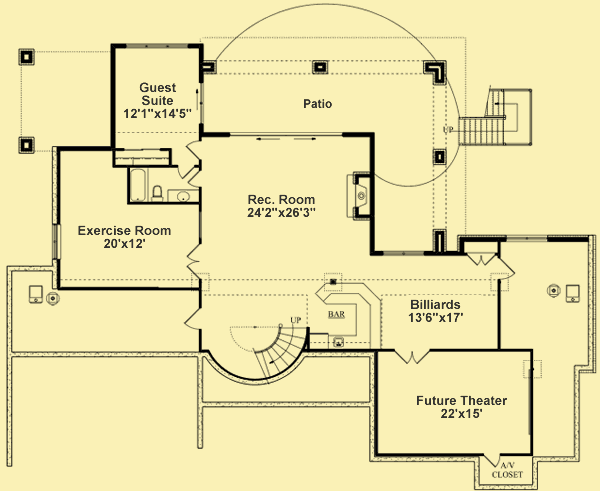door: (183, 242, 203, 284), (393, 345, 429, 366), (465, 249, 496, 271), (183, 308, 206, 329), (185, 138, 202, 161), (173, 163, 198, 178)
large_sink: (147, 182, 168, 206)
small_sink: (167, 188, 200, 205)
stairs: (452, 87, 520, 149), (252, 313, 311, 381)
tub: (130, 167, 150, 203)
window: (501, 230, 547, 244), (50, 222, 62, 260)
